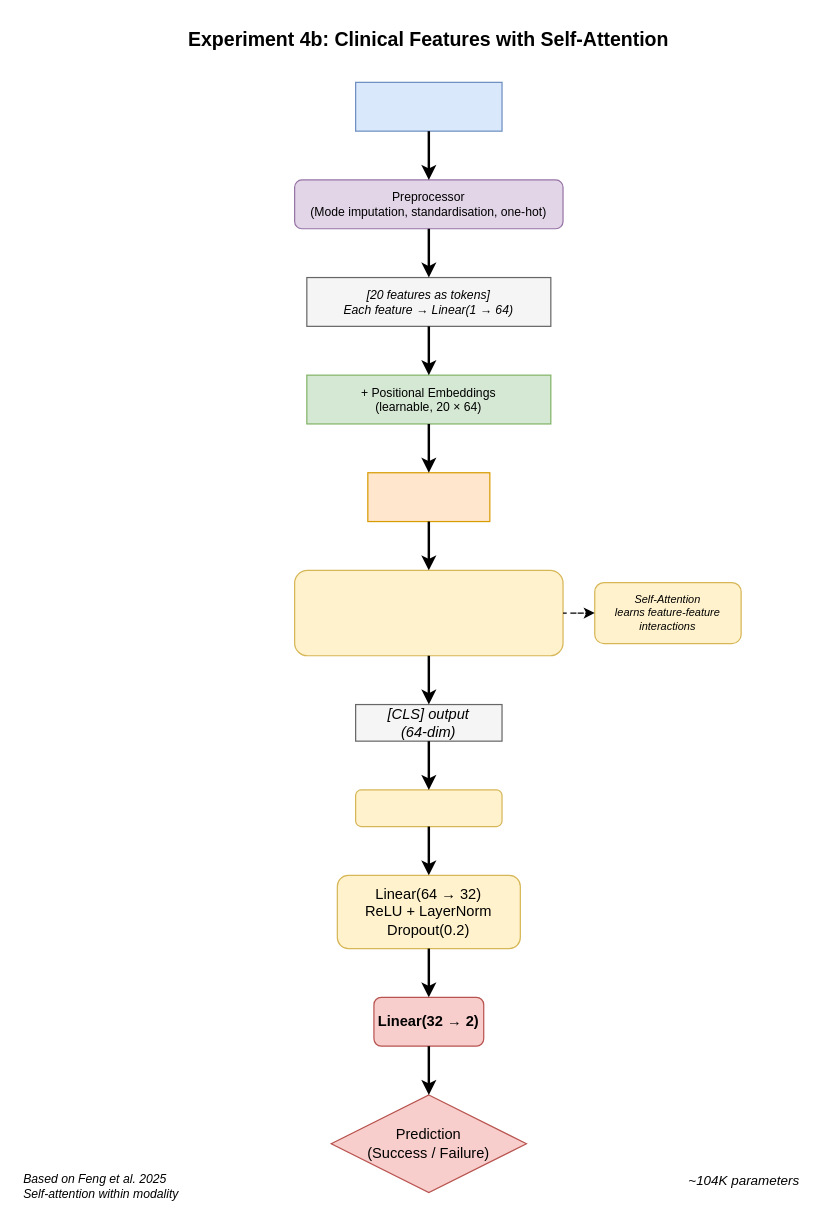
The diagram is 822 pixels wide and 1225 high, and some of its shapes have lost their labels. Each missing label, with the centre of its shape:
"[CLS] Token (1 × 64)" goes at (428,497).
"Clinical Features (from CSV)" goes at (428,106).
"LayerNorm" goes at (428,808).
"Transformer Encoder (2 layers, 4 heads, d=64) Pre-LayerNorm, Dropout(0.2)" goes at (428,612).
